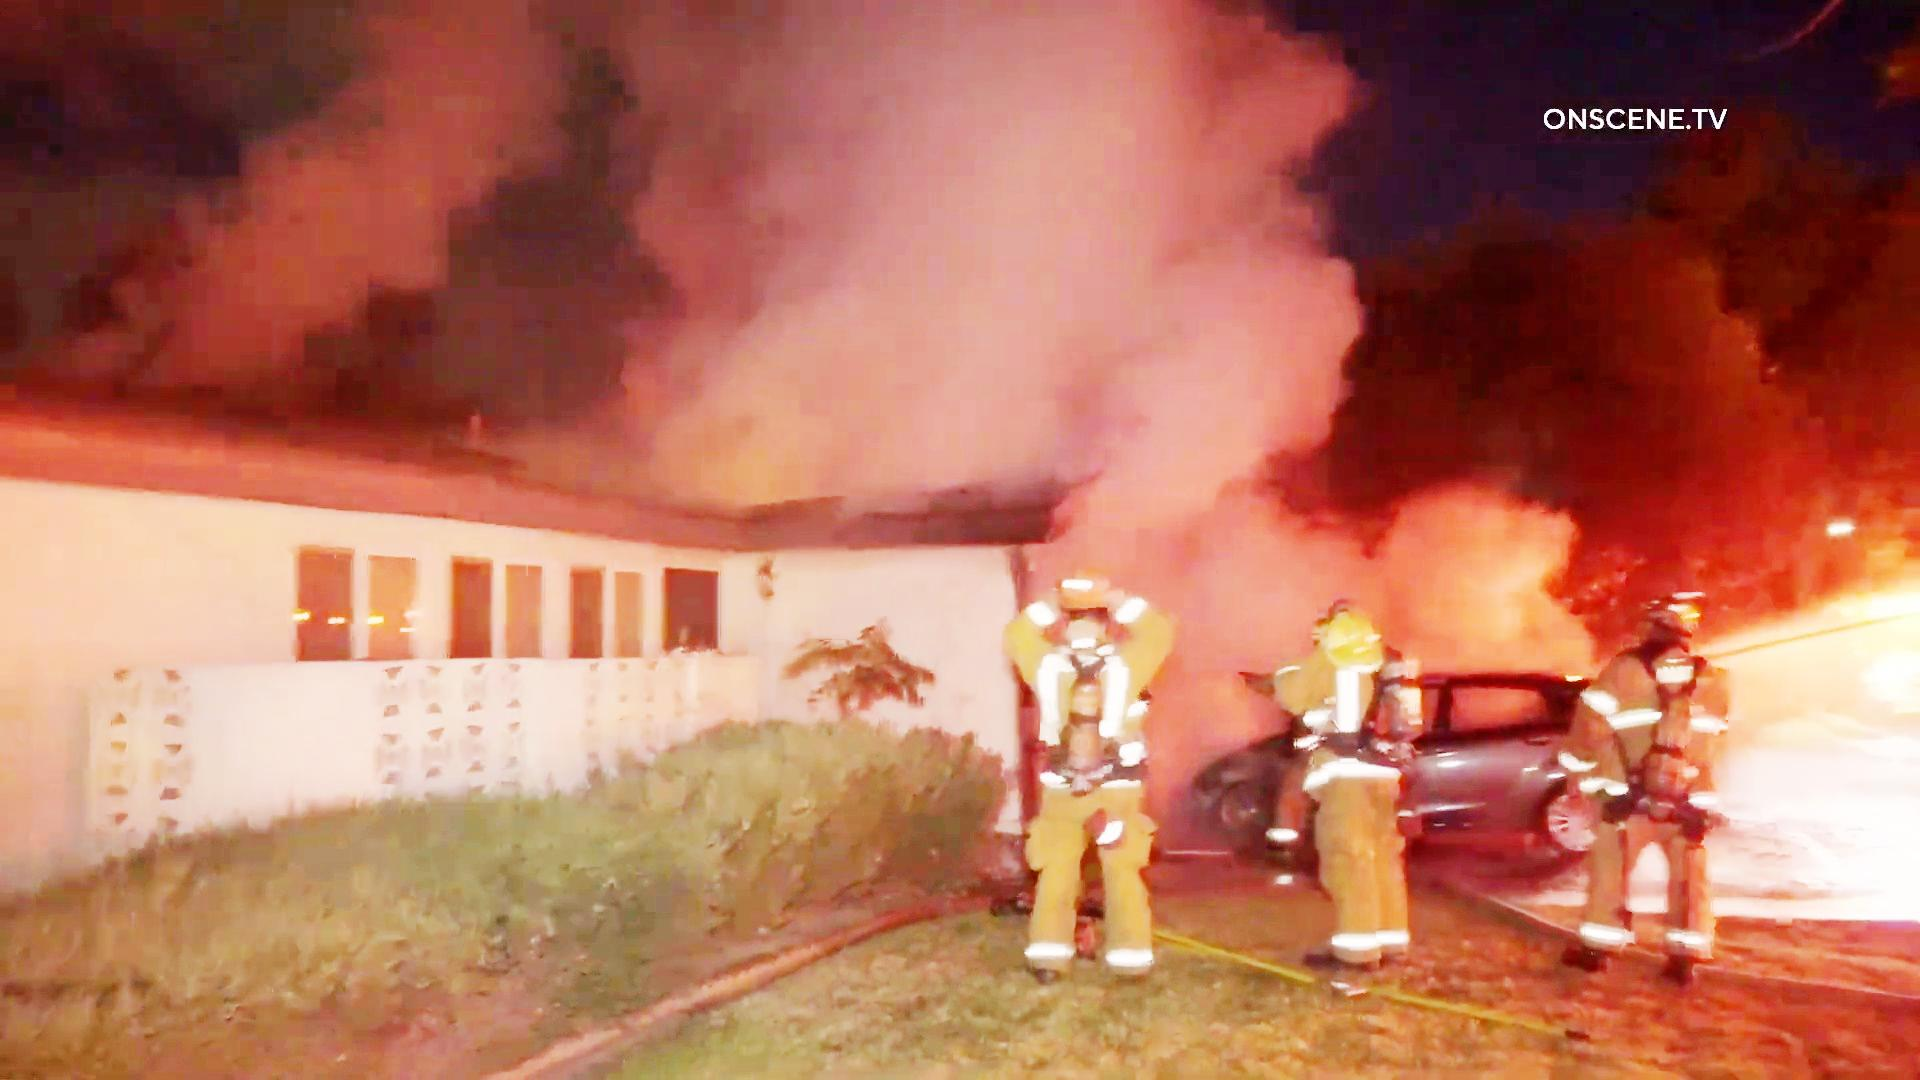smoke: (21, 3, 1536, 509), (1364, 484, 1606, 600)
